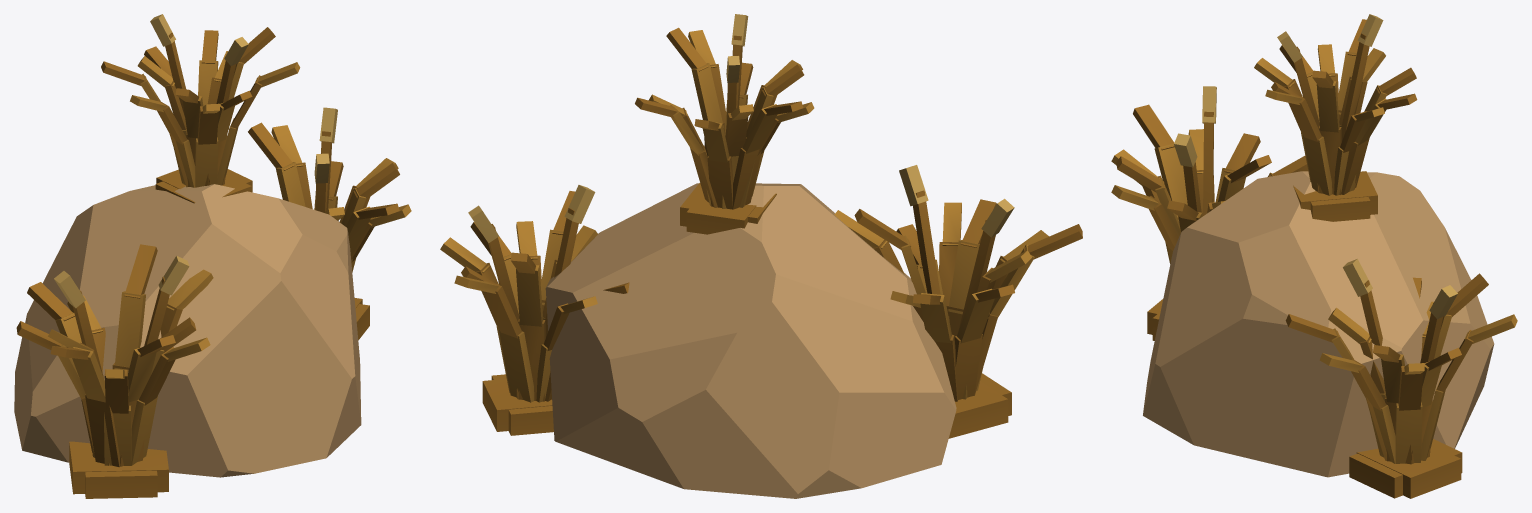
The model's file is GrassyRock.fbx.
3 renders of one model, left to right at view 1: azimuth 30°, elevation 25°; view 2: azimuth 150°, elevation 25°; view 3: azimuth 270°, elevation 25°, orthographic. The views are drawn at different scales.
Parts seen in each view (by area): view 1: GrassyRock, GrassyRock_GrassA, GrassyRock_GrassTop, GrassyRock_GrassB; view 2: GrassyRock, GrassyRock_GrassA, GrassyRock_GrassB, GrassyRock_GrassTop; view 3: GrassyRock, GrassyRock_GrassB, GrassyRock_GrassTop, GrassyRock_GrassA.
Part boxes in pixels (x1,y1,x2,y2): GrassyRock: (14,184,361,477); GrassyRock_GrassA: (16,244,213,498); GrassyRock_GrassTop: (101,14,300,203); GrassyRock_GrassB: (248,107,411,340); GrassyRock: (545,183,956,498); GrassyRock_GrassA: (834,165,1082,438); GrassyRock_GrassB: (440,185,629,435); GrassyRock_GrassTop: (635,14,814,234); GrassyRock: (1143,171,1494,477); GrassyRock_GrassB: (1285,259,1517,498); GrassyRock_GrassTop: (1254,14,1417,221); GrassyRock_GrassA: (1111,86,1308,340).
Size of the model in its own units: 14.73 by 10.94 by 10.76.
